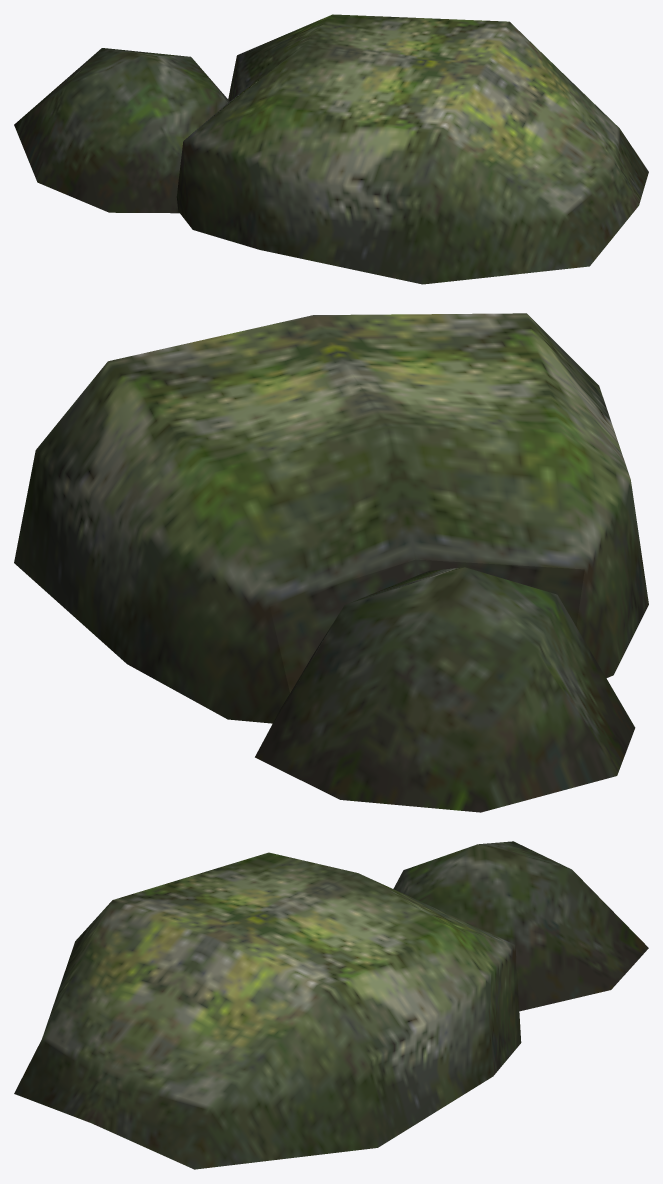
Rendered from 2014_Item_shitou_4.FBX.
3 views of the same model, one above another, from view 1: azimuth 30°, elevation 25°; view 2: azimuth 150°, elevation 25°; view 3: azimuth 270°, elevation 25° (orthographic). The views are drawn at different scales.
Visible parts, largest first — view 1: 2014_Item_shitou_4; view 2: 2014_Item_shitou_4; view 3: 2014_Item_shitou_4.
Part boxes in pixels (x1,y1,x2,y2): 2014_Item_shitou_4: (14,14,648,284); 2014_Item_shitou_4: (14,313,648,812); 2014_Item_shitou_4: (14,841,648,1169).
Bounding box in the file's own units: 170 × 47.8 × 178.
